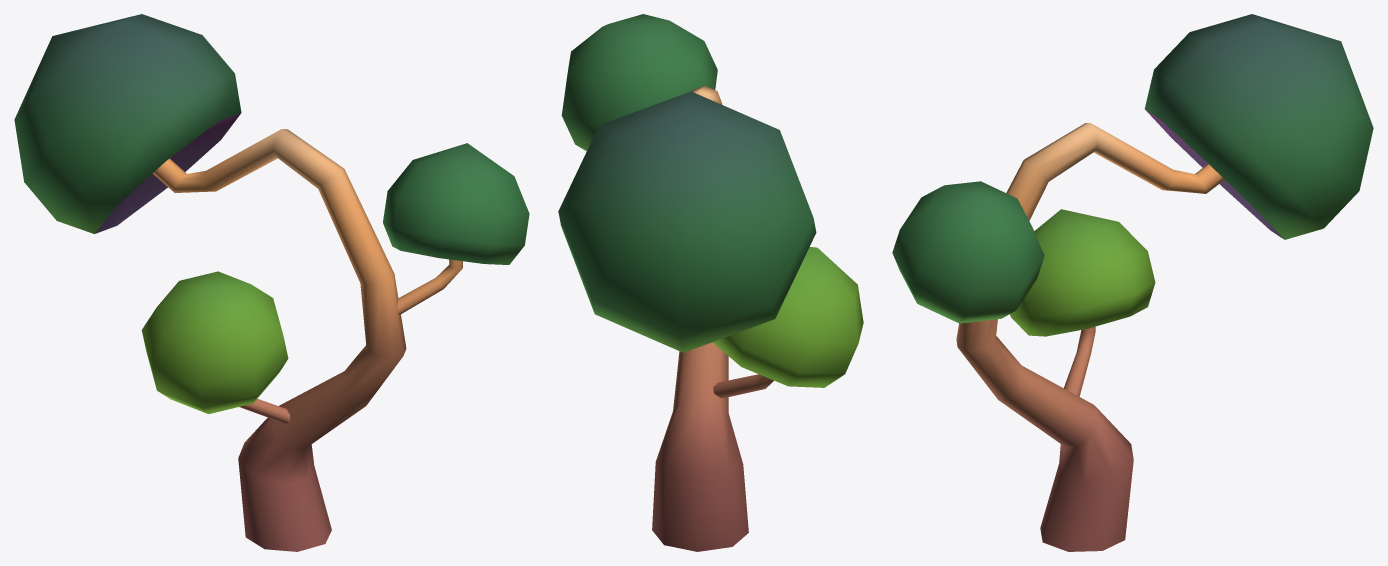
File: mushrooms3.fbx
3 renders of one model, left to right at view 1: azimuth 30°, elevation 25°; view 2: azimuth 150°, elevation 25°; view 3: azimuth 270°, elevation 25°, orthographic. The views are drawn at different scales.
Visible parts, largest first — view 1: mushrooms3; view 2: mushrooms3; view 3: mushrooms3.
Boxes of the visible parts, box(x1,y1,x2,y2) form: mushrooms3: box(14, 14, 529, 551); mushrooms3: box(558, 14, 863, 551); mushrooms3: box(892, 14, 1373, 551).
Bounding box in the file's own units: 381 × 488 × 450.
1 material, 1 textured.
